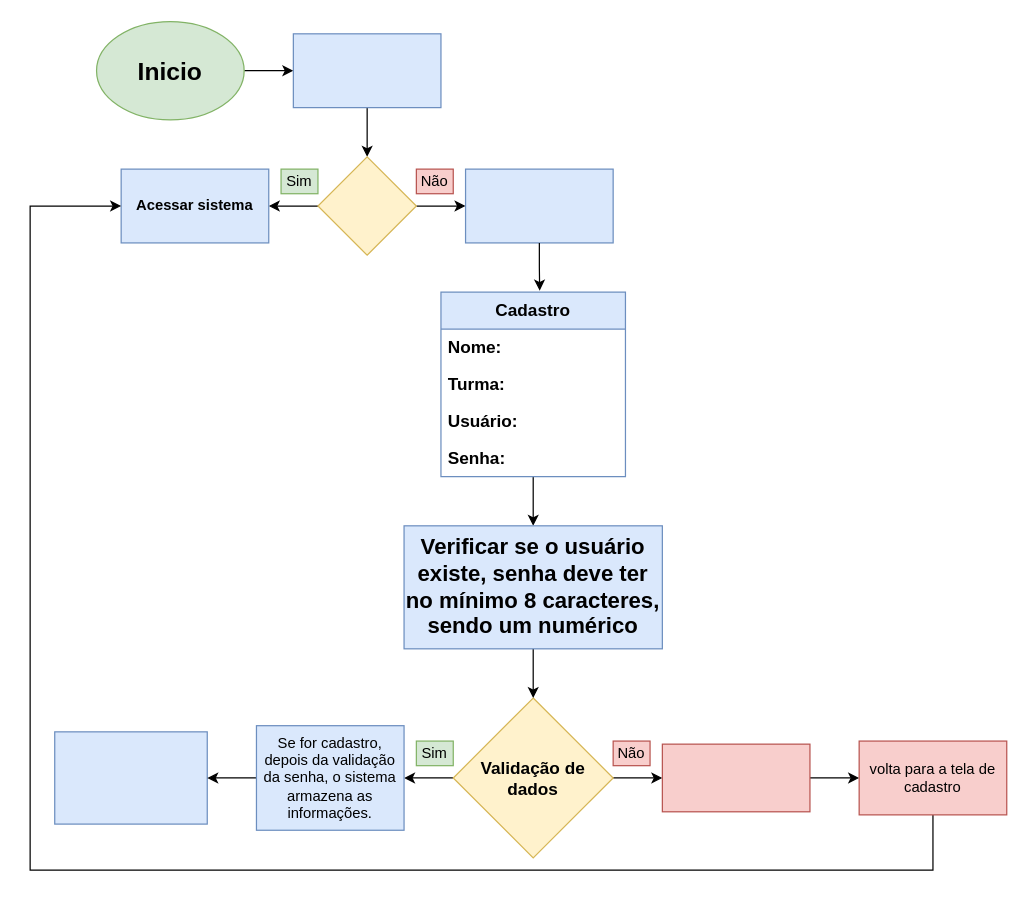
Image size: 1028x902. Some labels were removed from this diagram. The shapes that lost their labels are listed below. From the top down, each one's box as (x1, y1, x2, y2) in pixels, then its label:
(292, 33, 441, 108): Tela de login
(317, 156, 416, 255): Tem conta?
(464, 168, 613, 243): Criar conta
(54, 731, 207, 824): O usuário é redirecionado para a tela de Listagem de Usuários.
(661, 743, 810, 812): Alerta que pede para o usuário tentar novamente.
